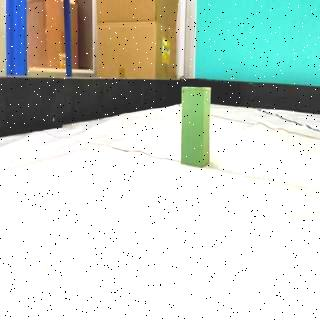greenbox: (182, 85, 210, 167)
